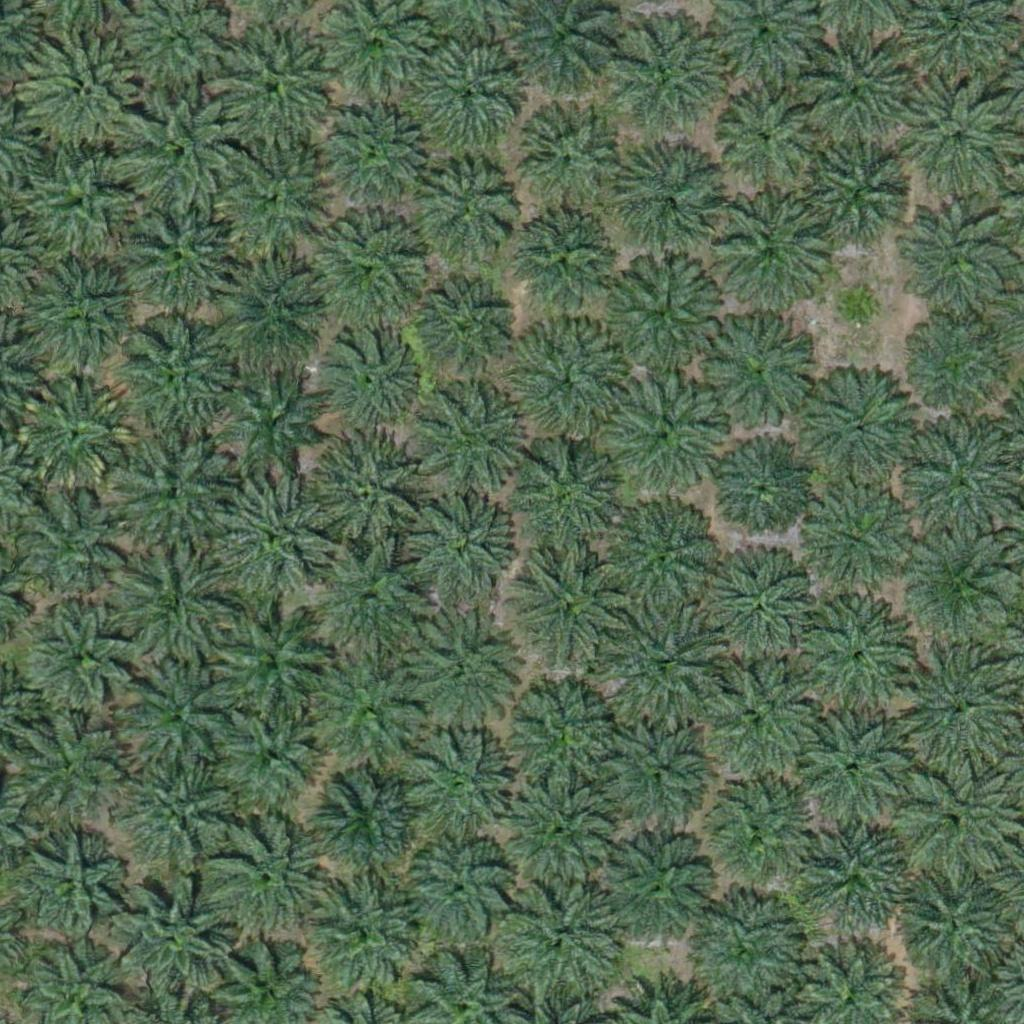Kelapa_Sawit: (34, 34, 159, 160), (603, 14, 728, 140), (794, 33, 919, 159), (600, 497, 725, 623), (507, 316, 632, 442), (506, 438, 631, 564), (506, 550, 631, 676), (313, 92, 438, 218), (301, 429, 426, 555), (309, 540, 434, 666), (205, 475, 330, 601), (209, 245, 334, 371), (205, 138, 330, 264), (212, 30, 337, 156), (117, 88, 242, 214), (113, 191, 238, 317), (113, 310, 238, 436), (111, 430, 236, 556), (101, 545, 226, 671), (117, 653, 242, 779), (115, 747, 240, 873), (110, 882, 235, 1008), (207, 592, 332, 718), (211, 691, 336, 817), (207, 812, 332, 938), (299, 647, 424, 773), (393, 729, 518, 855), (396, 606, 521, 732), (503, 769, 628, 895), (502, 877, 627, 1003), (684, 659, 809, 785), (894, 644, 1019, 770), (890, 759, 1015, 885), (598, 369, 723, 494), (600, 252, 725, 377), (407, 32, 532, 157), (503, 675, 628, 800), (689, 770, 814, 895), (678, 888, 803, 1013), (25, 146, 138, 260), (25, 254, 138, 368), (311, 879, 424, 993), (903, 531, 1016, 644), (797, 485, 910, 598), (800, 367, 913, 480), (802, 145, 915, 258), (408, 160, 521, 273), (314, 767, 427, 880), (598, 833, 711, 946), (599, 719, 712, 832), (612, 604, 725, 717), (904, 81, 1016, 195), (902, 206, 1014, 320), (11, 714, 123, 828), (704, 308, 816, 421), (714, 554, 826, 667), (610, 147, 722, 260), (512, 102, 624, 215), (400, 490, 512, 603), (416, 384, 528, 497), (313, 219, 425, 332), (19, 376, 131, 489), (18, 492, 130, 605), (26, 601, 138, 714), (13, 827, 125, 940), (404, 837, 516, 950), (802, 816, 914, 929), (794, 713, 906, 826), (799, 603, 911, 716), (899, 873, 1011, 986), (907, 313, 1007, 414), (714, 85, 814, 186), (721, 203, 821, 304), (714, 440, 814, 541), (512, 212, 612, 313), (416, 278, 516, 379), (321, 328, 421, 429), (223, 369, 323, 469), (833, 284, 883, 334)
